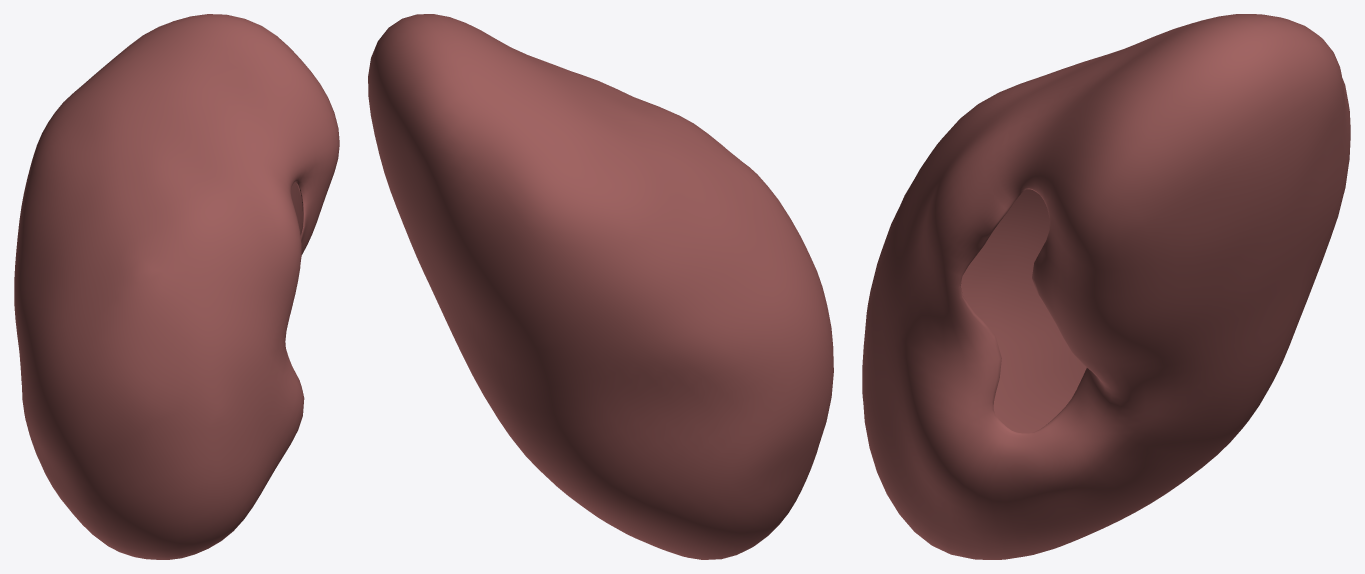
The model's file is 3d-vh-f-kidney-r.glb.
The picture shows the model from 3 angles, left to right: view 1: azimuth 30°, elevation 25°; view 2: azimuth 150°, elevation 25°; view 3: azimuth 270°, elevation 25°; orthographic projection. The views are drawn at different scales.
Parts seen in each view (by area): view 1: VH_F_kidney_capsule_R; view 2: VH_F_kidney_capsule_R; view 3: VH_F_kidney_capsule_R.
Boxes of the visible parts, x1=… form: VH_F_kidney_capsule_R: x1=14, y1=14, x2=339, y2=559; VH_F_kidney_capsule_R: x1=368, y1=14, x2=833, y2=559; VH_F_kidney_capsule_R: x1=862, y1=14, x2=1350, y2=559.
Bounding box in the file's own units: 0.0734 × 0.0979 × 0.0695.
